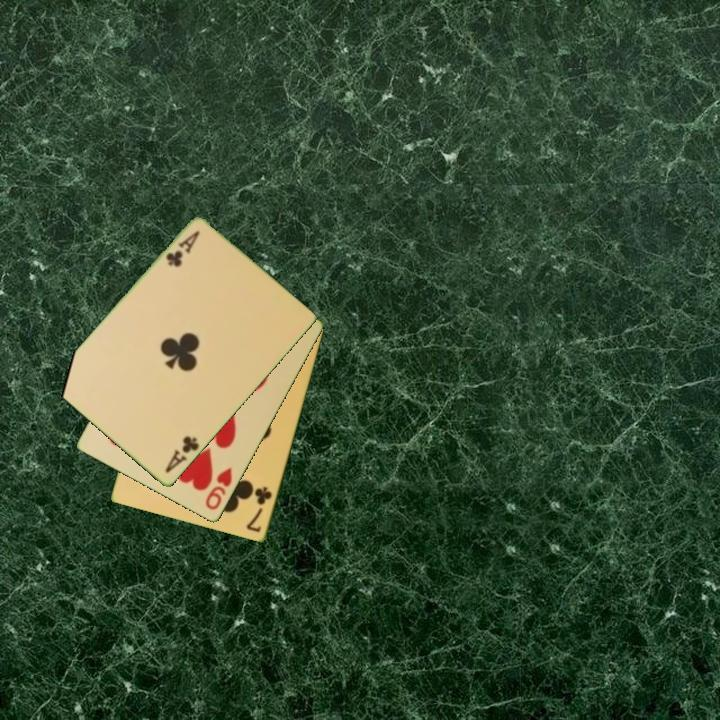7c: (243, 483, 275, 536)
9h: (202, 464, 235, 513)
Ac: (162, 227, 203, 271), (162, 432, 202, 476)
